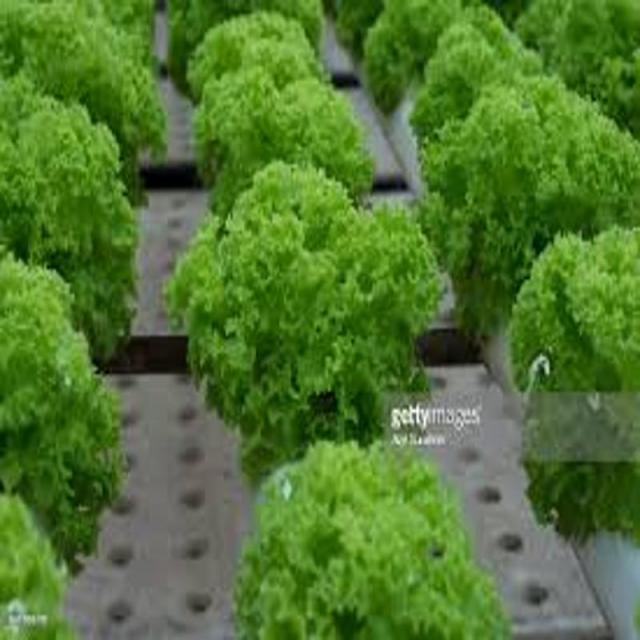Lettuce: (165, 160, 445, 458), (428, 83, 640, 346), (239, 441, 508, 640), (185, 62, 378, 293), (0, 69, 133, 388), (0, 1, 148, 271), (511, 218, 640, 513), (0, 243, 115, 560), (180, 0, 328, 146), (426, 7, 546, 182)
